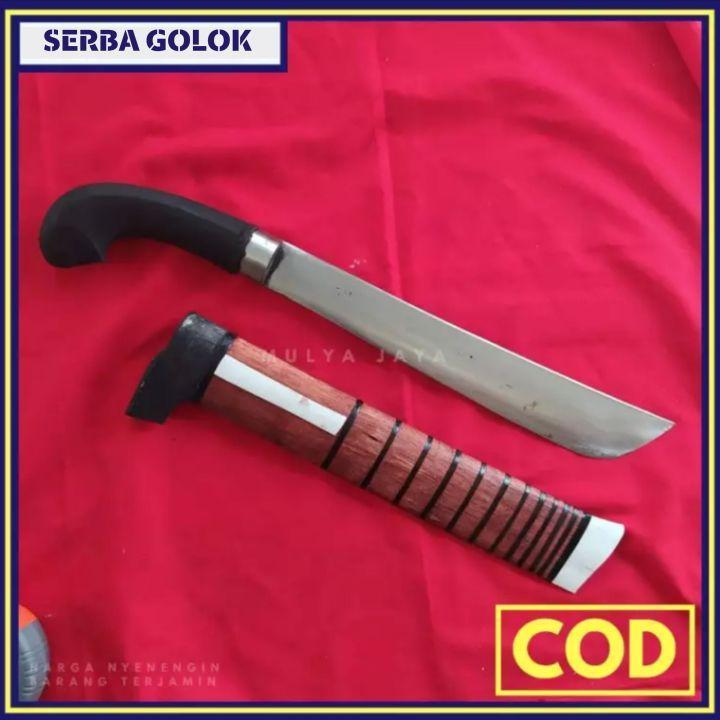facao: (59, 185, 669, 463)
